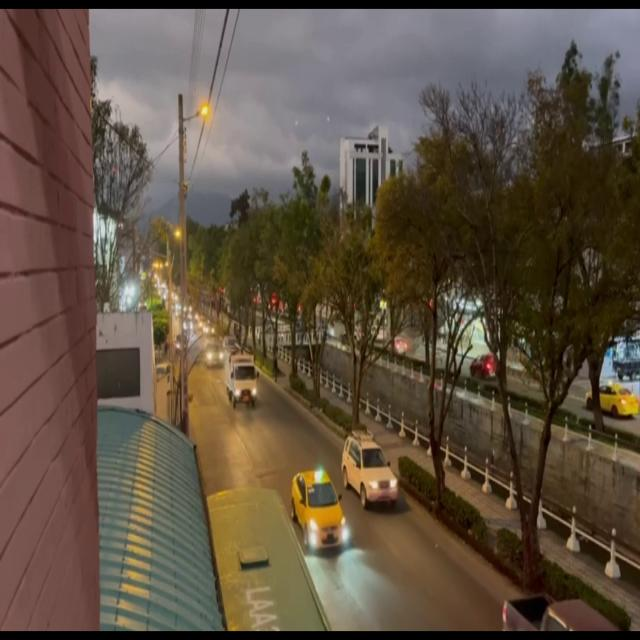SED: (292, 476, 344, 544)
SUV: (345, 436, 397, 500)
TRUCK: (228, 355, 258, 408)
